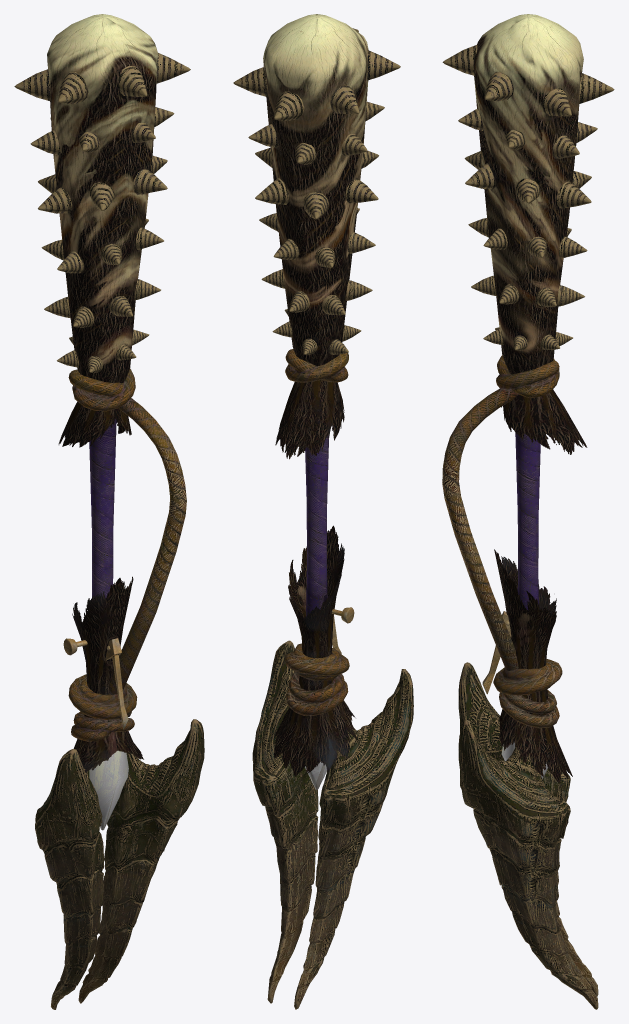
File: rod021.obj
3 renders of one model, left to right at view 1: azimuth 30°, elevation 25°; view 2: azimuth 150°, elevation 25°; view 3: azimuth 270°, elevation 25°, orthographic. The views are drawn at different scales.
Visible parts, largest first — view 1: rod021_000_LOD_1, rod021_004_LOD_1, rod021_003_LOD_1, rod021_002_LOD_1; view 2: rod021_000_LOD_1, rod021_004_LOD_1, rod021_003_LOD_1; view 3: rod021_000_LOD_1, rod021_004_LOD_1, rod021_003_LOD_1, rod021_002_LOD_1.
Boxes of the visible parts, x1,y1,x2,y2 form: rod021_000_LOD_1: [14, 14, 190, 830]; rod021_004_LOD_1: [35, 719, 204, 1009]; rod021_003_LOD_1: [58, 401, 143, 772]; rod021_002_LOD_1: [108, 398, 186, 694]; rod021_000_LOD_1: [233, 14, 400, 789]; rod021_004_LOD_1: [252, 640, 413, 1009]; rod021_003_LOD_1: [273, 380, 357, 776]; rod021_000_LOD_1: [442, 14, 614, 778]; rod021_004_LOD_1: [458, 662, 598, 1009]; rod021_003_LOD_1: [494, 389, 587, 782]; rod021_002_LOD_1: [442, 388, 518, 671].
Bounding box in the file's own units: 54.7 × 353 × 55.87.
